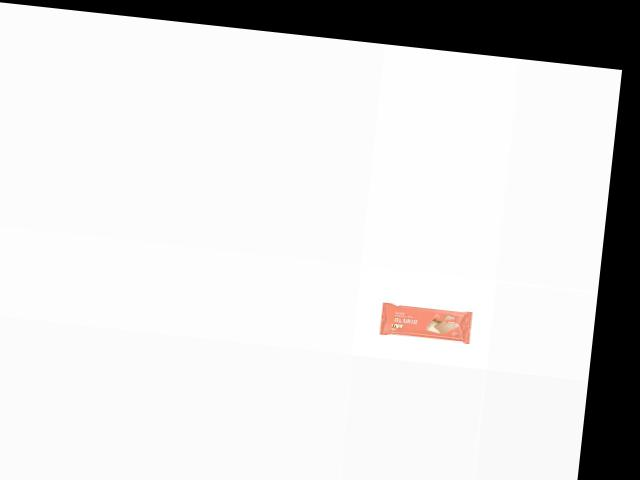chocolate: (375, 300, 472, 343)
